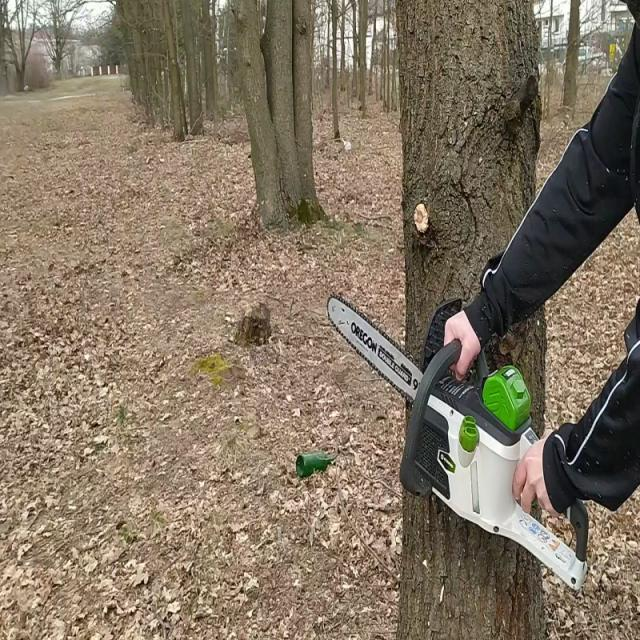Chainsaw: (322, 292, 592, 591)
